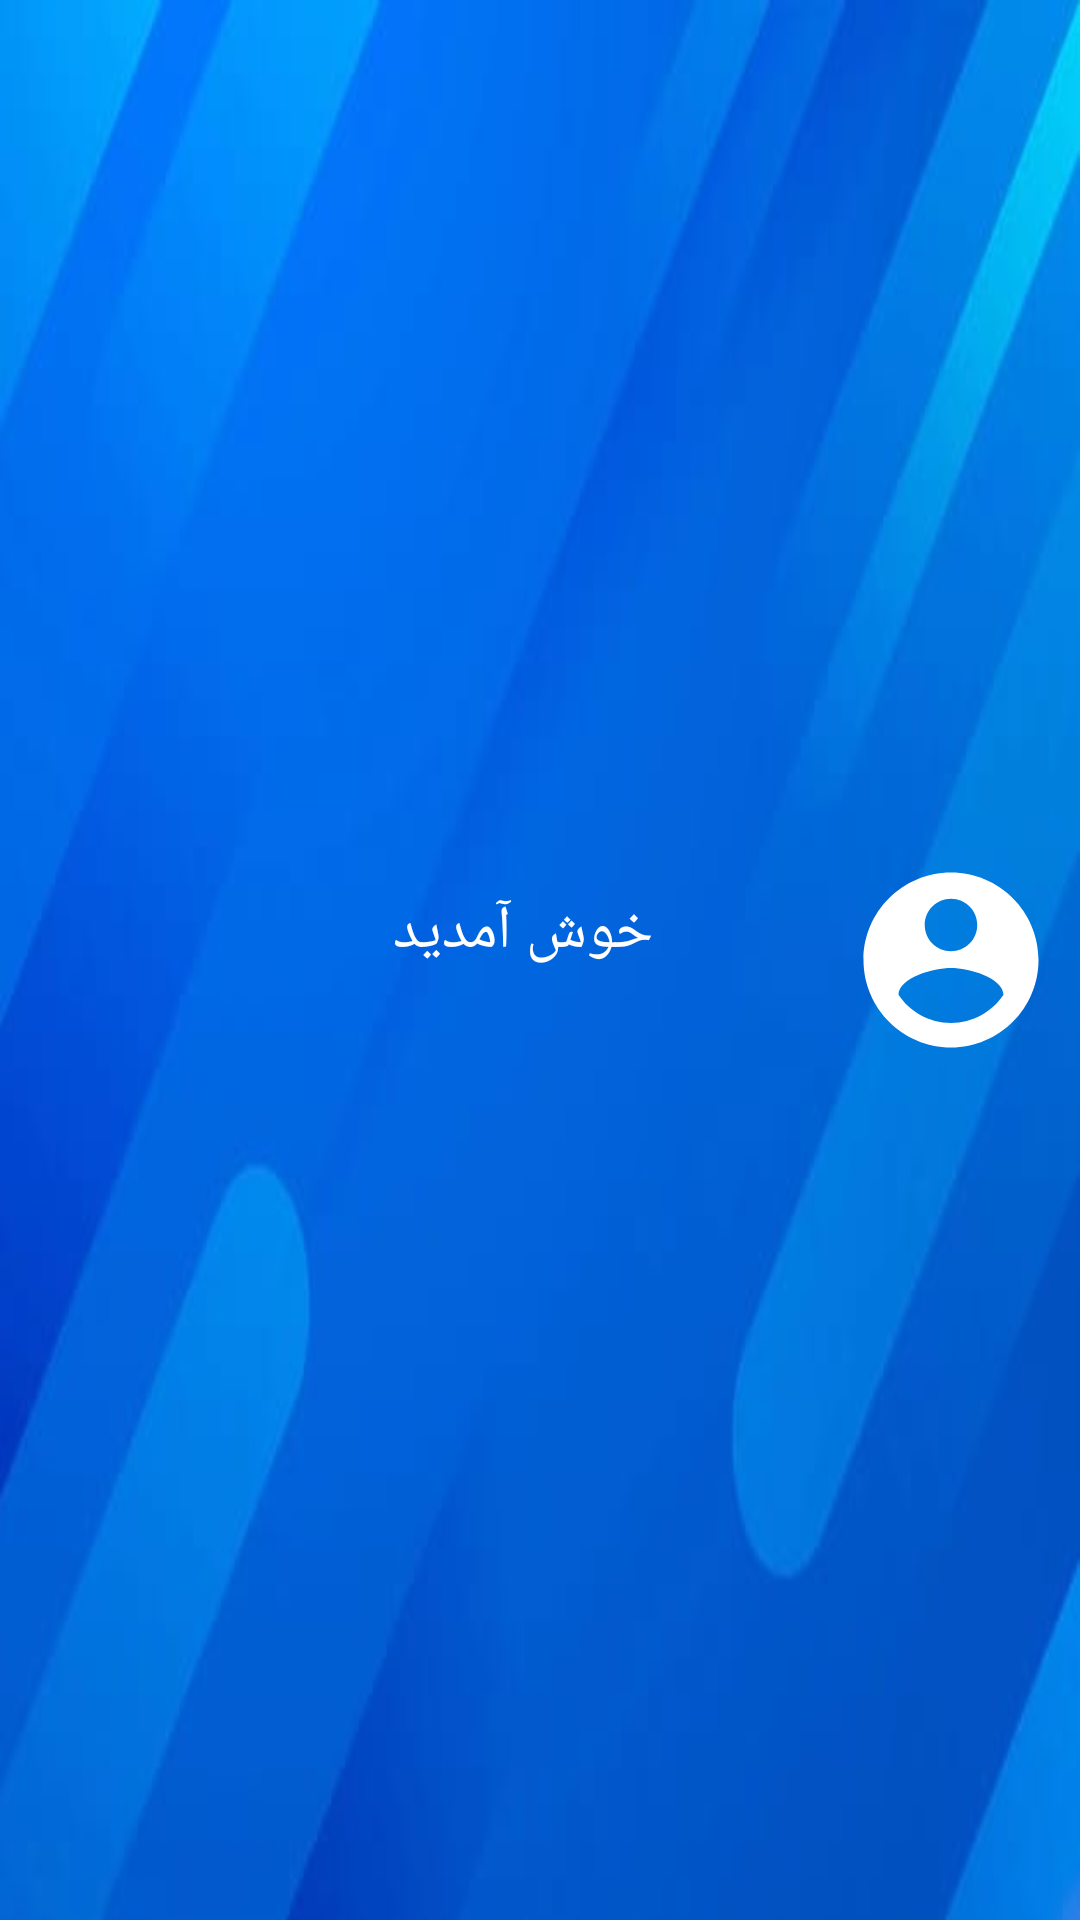

Named icons in this screenshot (1080×1920) and their centers, [x,y]:
account circle: [959,960]
